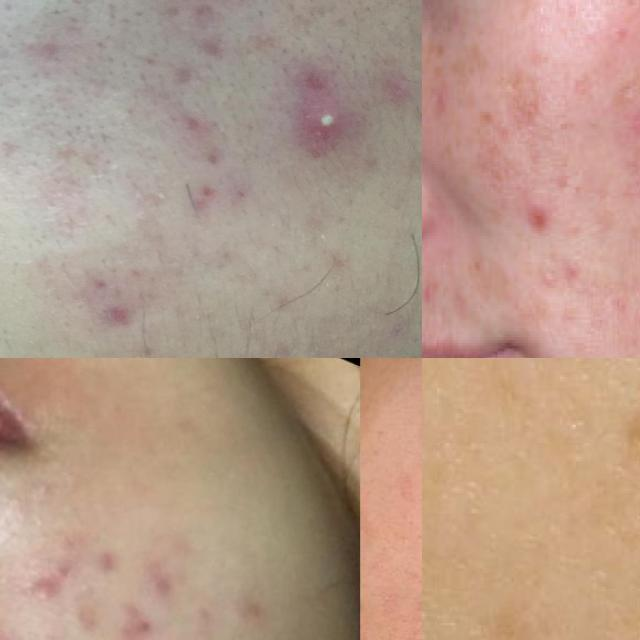papule: (130, 556, 187, 615), (21, 566, 78, 616), (0, 618, 30, 640)
